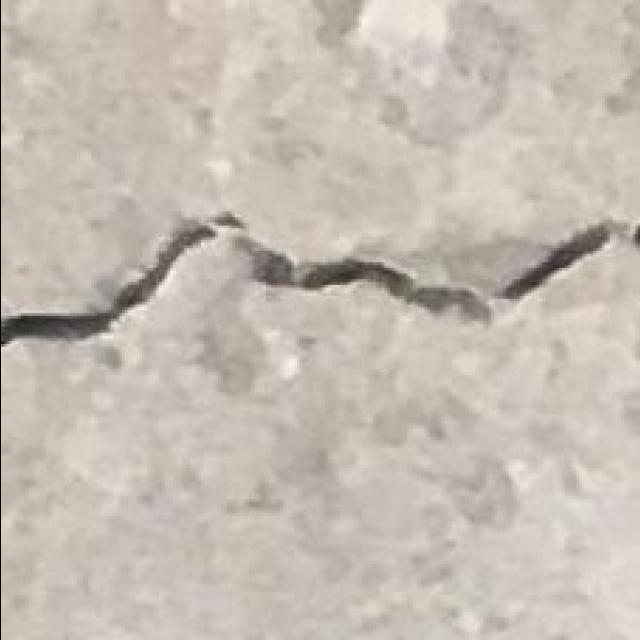corrosion: (2, 207, 637, 348)
